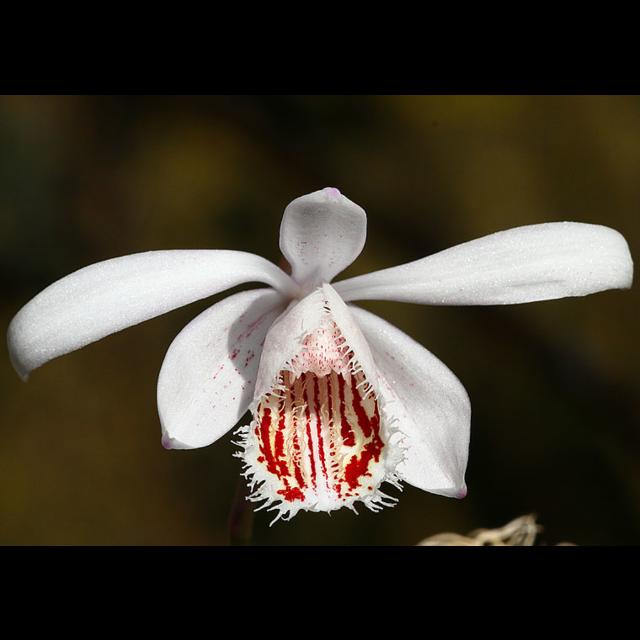Flower: (4, 183, 636, 525)
